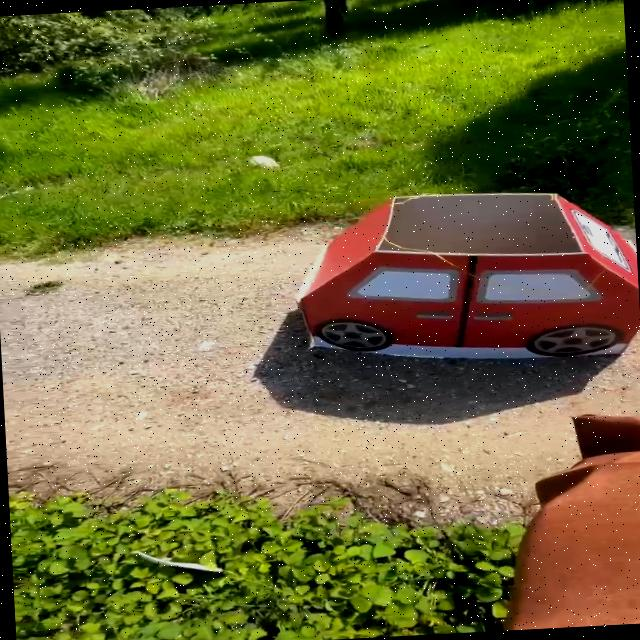red_car: (268, 173, 640, 385)
